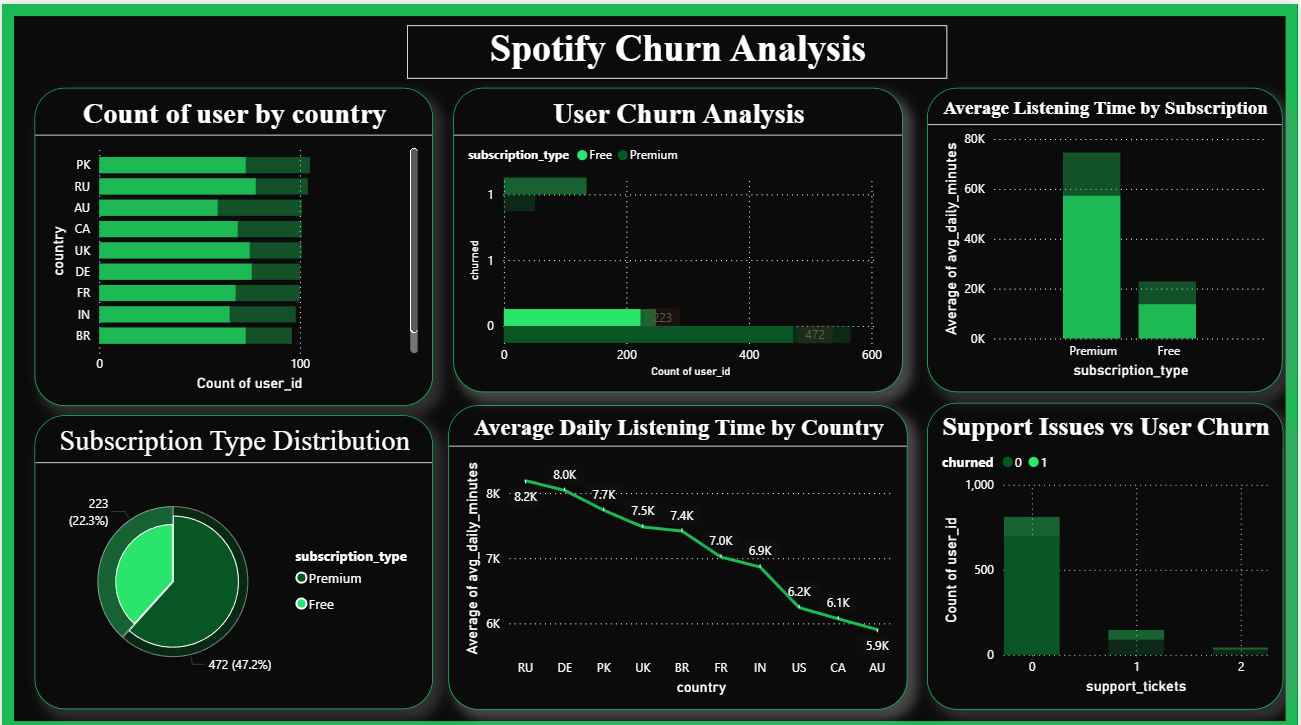

The dashboard page shown, as its layout file describes it:
{"tool":"powerbi","page":{"name":"Page 2","canvas":[1280,720],"ordinal":1},"visuals":[{"type":"shape","box":[0,0,1279.8,720.2],"z":0},{"type":"barChart","title":"Count of user by country","fields":{"Y":["CountNonNull(spotify_churn_dataset.user_id)"],"Category":["spotify_churn_dataset.country"]},"box":[31.9,82.2,393.9,314.1],"z":1000},{"type":"pieChart","title":"Subscription Type Distribution","fields":{"Category":["spotify_churn_dataset.subscription_type"],"Y":["CountNonNull(spotify_churn_dataset.user_id)"]},"box":[31.9,406.1,393.9,290.8],"z":2000},{"type":"lineChart","title":"Average Daily Listening Time by Country","fields":{"Category":["spotify_churn_dataset.country"],"Y":["Sum(spotify_churn_dataset.avg_daily_minutes)"]},"box":[440.5,396.3,454,300.6],"z":3000},{"type":"clusteredBarChart","title":"User Churn Analysis","fields":{"Category":["spotify_churn_dataset.churned"],"Y":["CountNonNull(spotify_churn_dataset.user_id)"],"Series":["spotify_churn_dataset.subscription_type"]},"box":[445.4,82.2,444.2,300.6],"z":4000},{"type":"columnChart","title":"Support Issues vs User Churn","fields":{"Category":["spotify_churn_dataset.support_tickets"],"Y":["CountNonNull(spotify_churn_dataset.user_id)"],"Series":["spotify_churn_dataset.churned"]},"box":[914.1,393.9,352.1,303.1],"z":5000},{"type":"clusteredColumnChart","title":"Average Listening Time by Subscription","fields":{"Category":["spotify_churn_dataset.subscription_type"],"Y":["Sum(spotify_churn_dataset.avg_daily_minutes)"]},"box":[914.1,82.2,350.9,300.6],"z":6000},{"type":"textbox","title":"Spotify Churn Analysis ","box":[400,20.9,533.7,52.8],"z":7000}]}

Visuals, with their boxes in screenshot pixels (x1, y1, x2, y2), scaled from the page's 1280x720 canvas onto the 1301x725 screenshot:
shape: <bbox>0, 0, 1300, 724</bbox>
"Count of user by country" barChart: <bbox>32, 83, 433, 399</bbox>
"Subscription Type Distribution" pieChart: <bbox>32, 409, 433, 702</bbox>
"Average Daily Listening Time by Country" lineChart: <bbox>448, 399, 909, 702</bbox>
"User Churn Analysis" clusteredBarChart: <bbox>453, 83, 904, 385</bbox>
"Support Issues vs User Churn" columnChart: <bbox>929, 397, 1287, 702</bbox>
"Average Listening Time by Subscription" clusteredColumnChart: <bbox>929, 83, 1286, 385</bbox>
"Spotify Churn Analysis " textbox: <bbox>407, 21, 949, 74</bbox>
